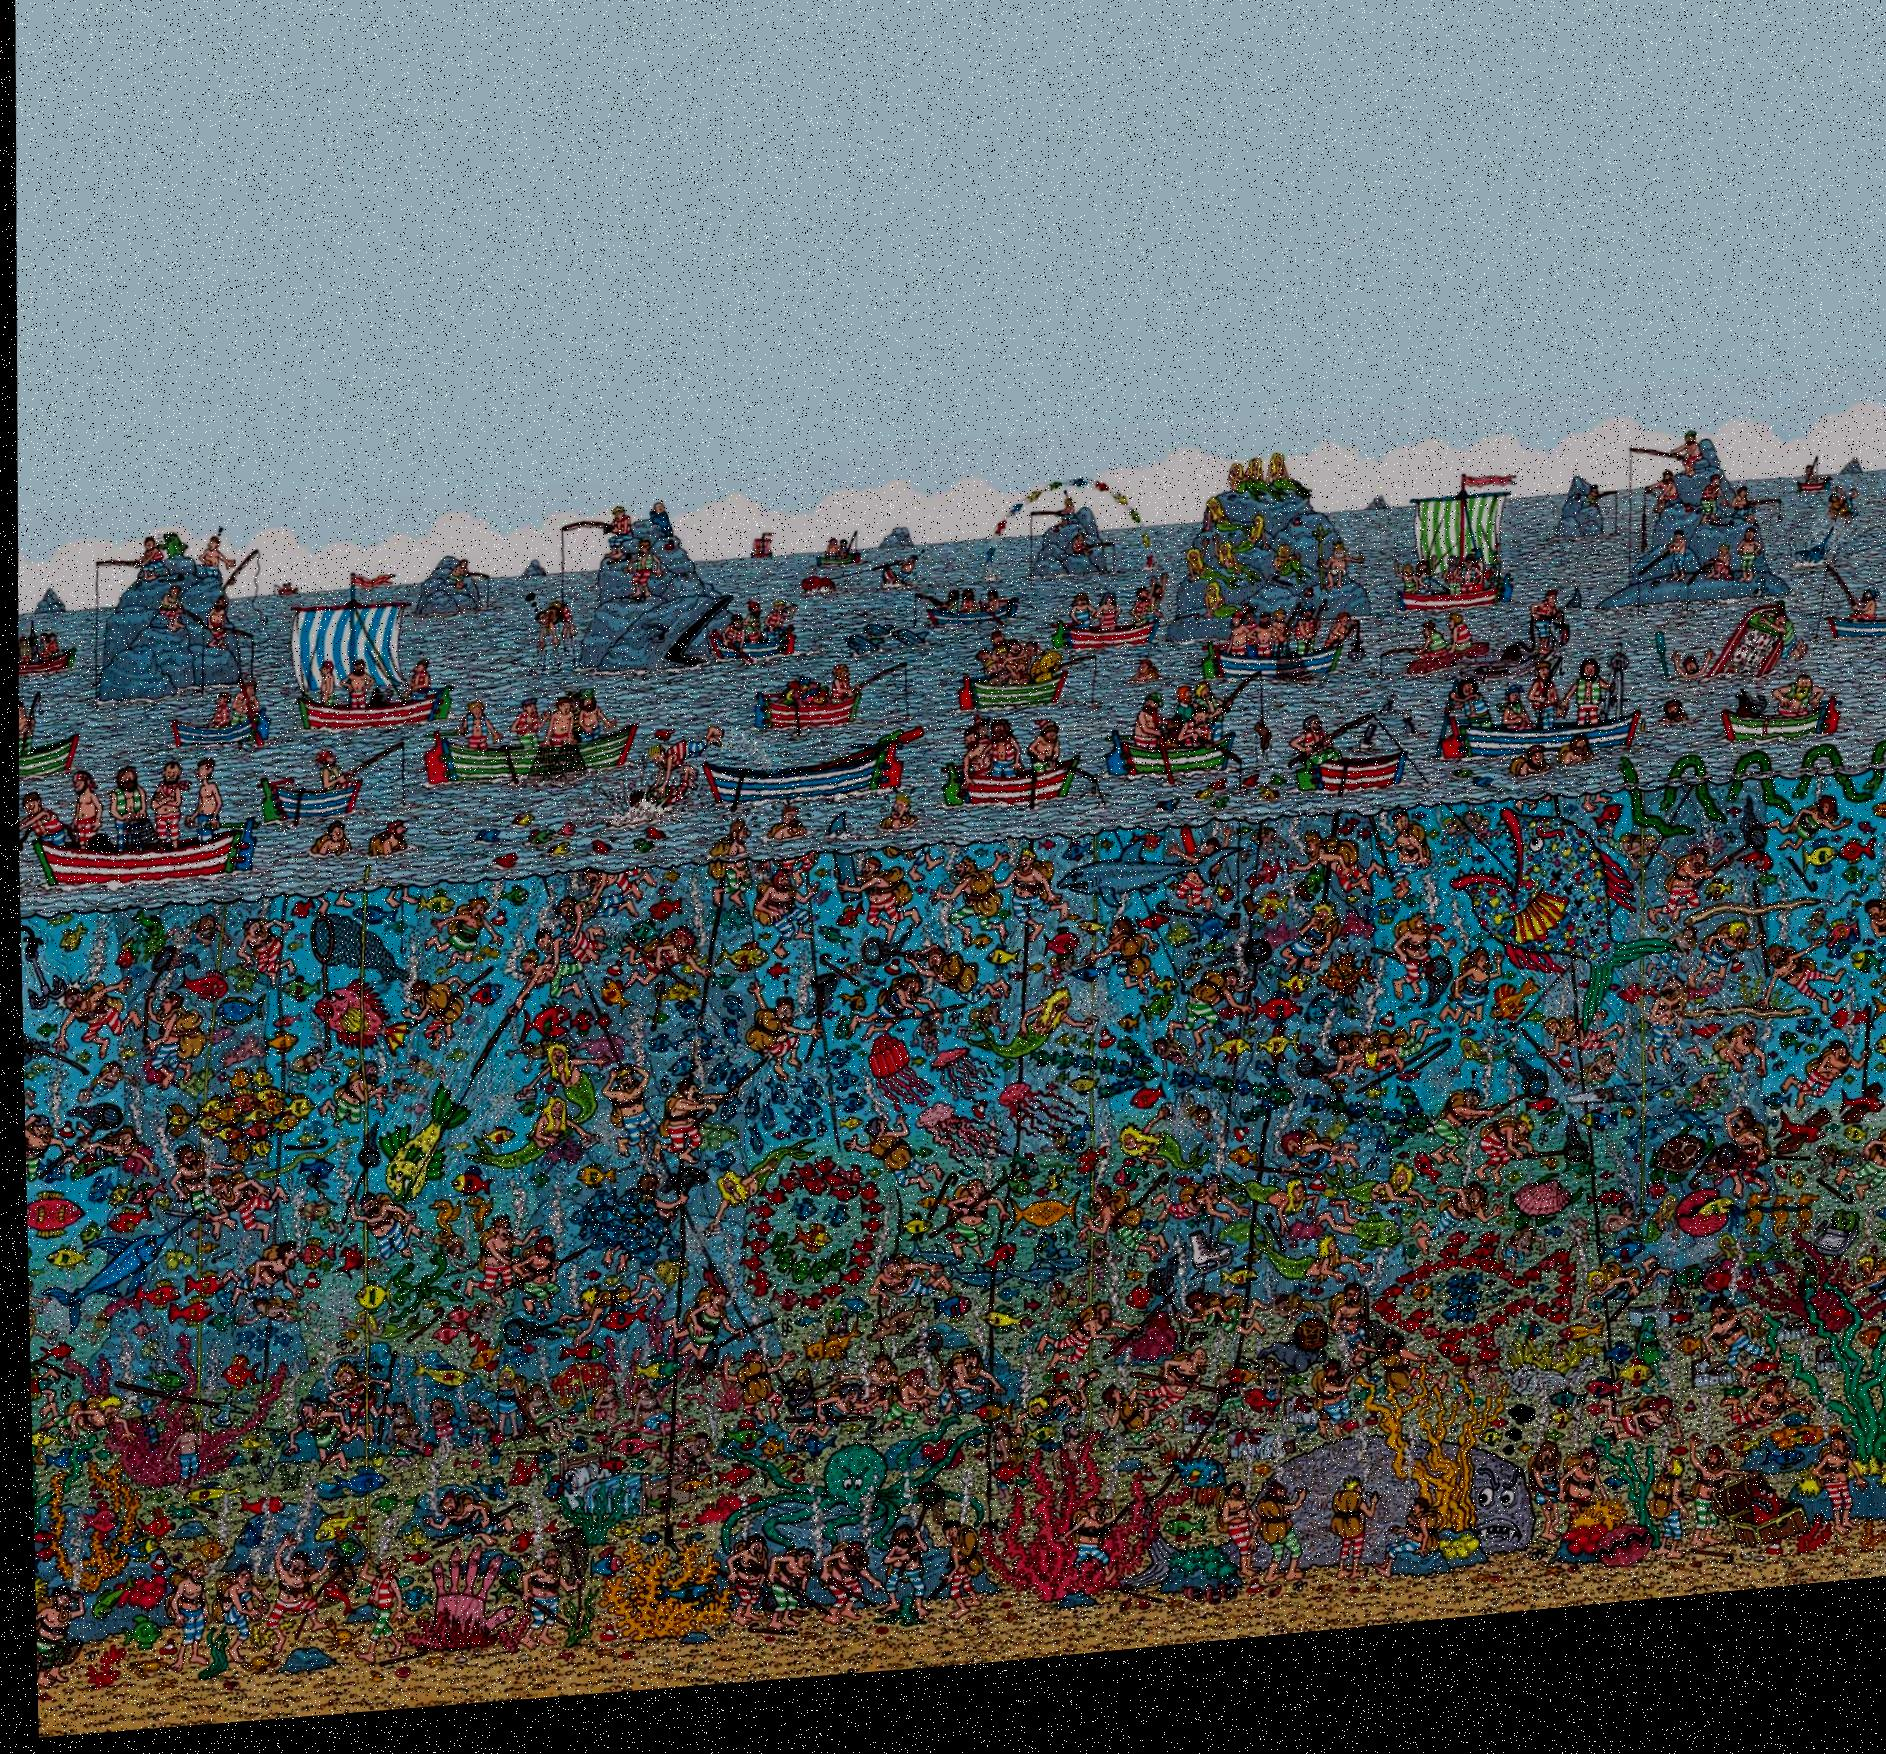waldo: (1240, 626, 1256, 650)
